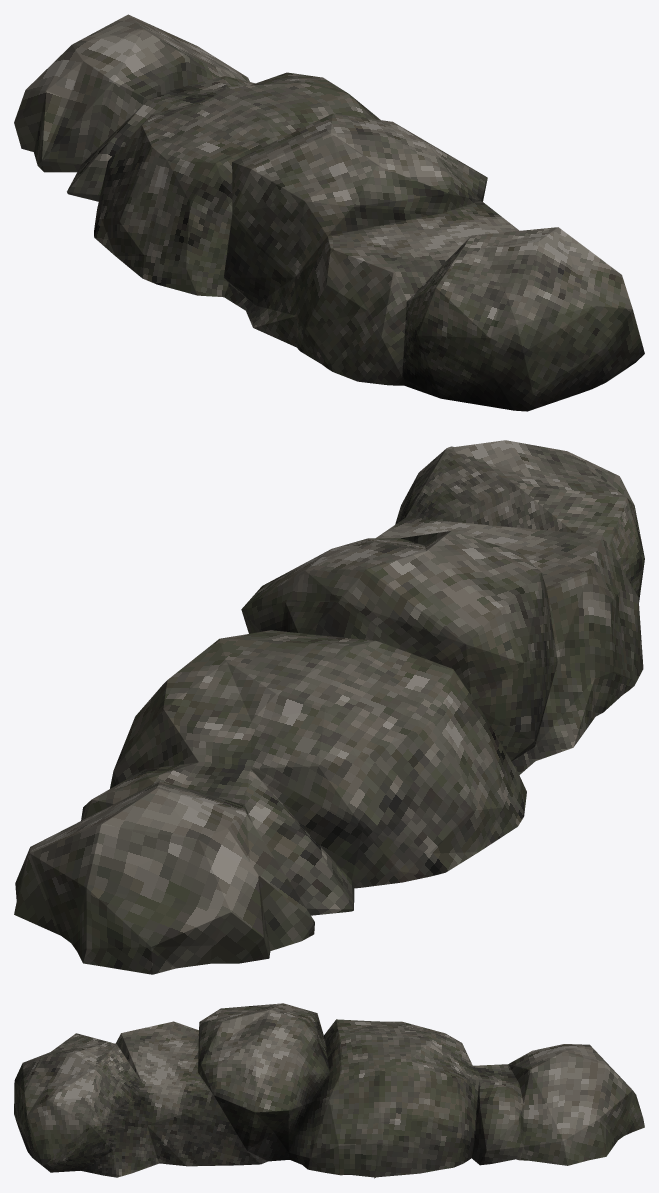
File: small_rocks_00.glb
3 views of the same model, one above another, from view 1: azimuth 30°, elevation 25°; view 2: azimuth 150°, elevation 25°; view 3: azimuth 270°, elevation 25° (orthographic). The views are drawn at different scales.
Visible parts, largest first — view 1: small_rocks_00; view 2: small_rocks_00; view 3: small_rocks_00.
Part boxes in pixels (<box>): small_rocks_00: <box>14,14,644,411</box>; small_rocks_00: <box>14,440,644,974</box>; small_rocks_00: <box>14,1003,644,1178</box>.
Size of the model in its own units: 4.53 by 2.26 by 11.64.
Materials: 1 (1 with a texture image).
